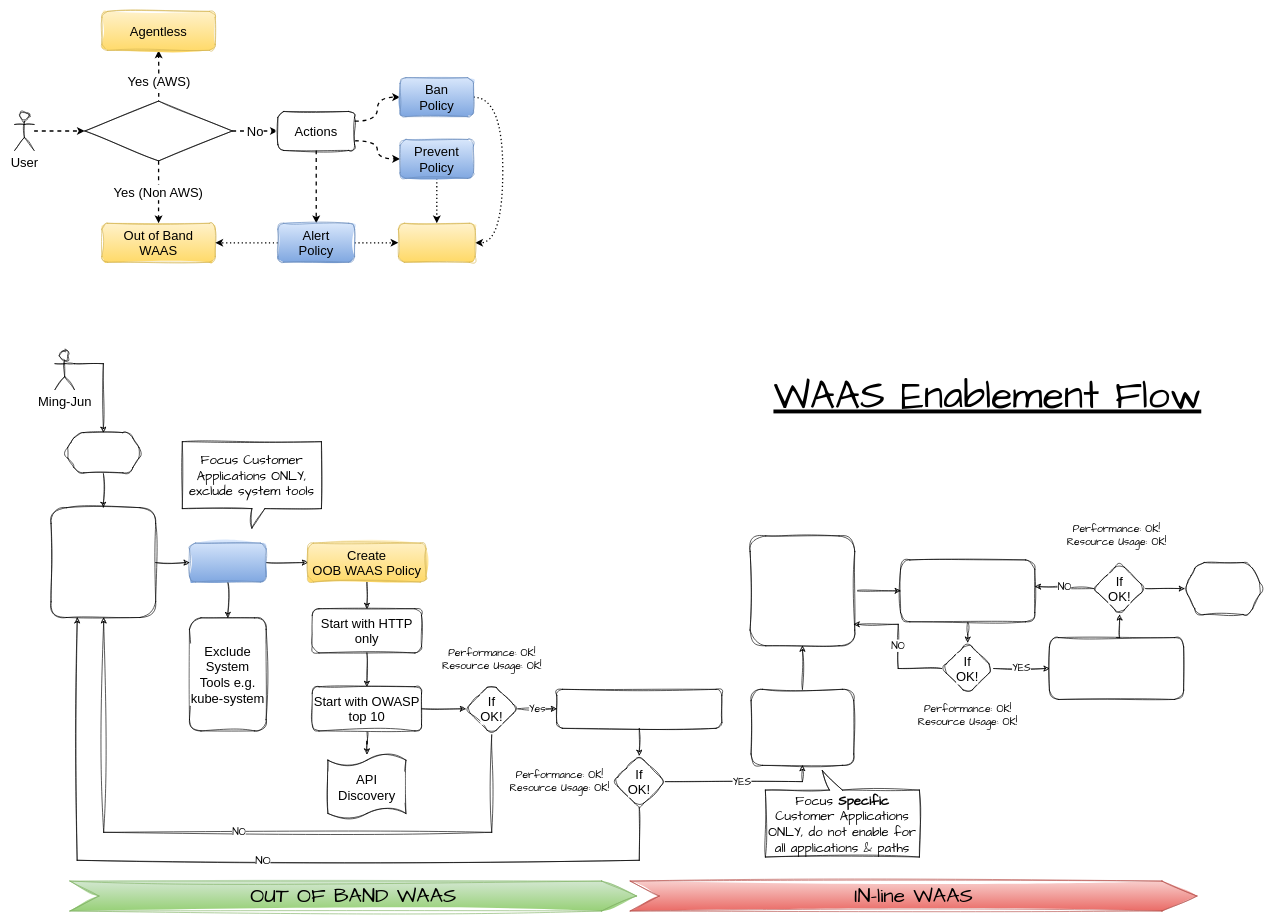
The diagram is 1274 pixels wide and 922 high, and some of its shapes have lost their labels. The centre of each missing label's shape, as x and y in pixels:
Add Extra Checks e.g DoS, Virtual Patches: point 639,708
Adjust Defender DS CPU & Memory e.g. 4 CPU + 4GB memory: point 103,562
Adjust Defender DS CPU & Memory e.g. 4 CPU + 8GB memory: point 802,590
Create Inline WAAS Policy (Alert Only): point 967,590
Define In-line Collection (Specific Images): point 802,727
Define OOB Collection: point 227,562
Discovery Only: point 158,130
Edit Inline WAAS Policy To Prevent/Ban: point 1116,668
END: point 1223,588
Inline WAAS: point 436,242
Start: point 103,452
